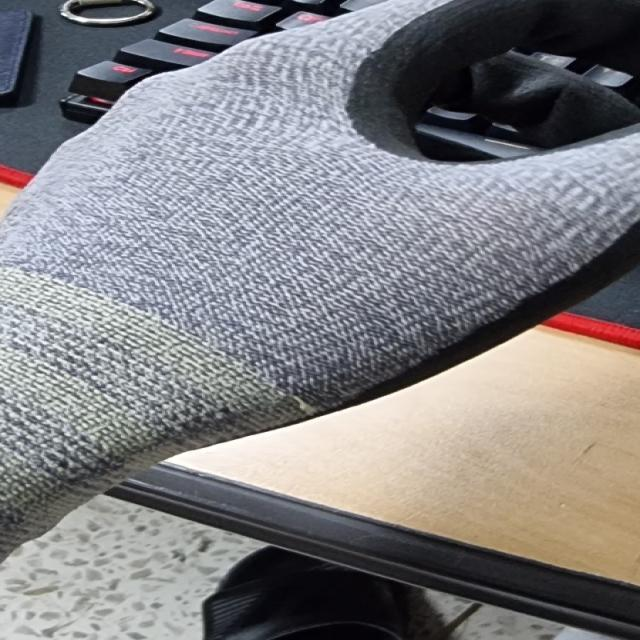Gloves: (6, 0, 640, 522)
